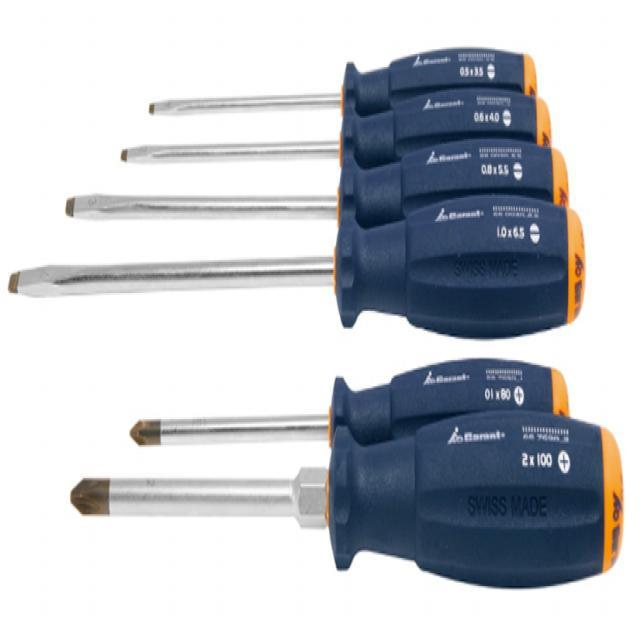screwdriver: (69, 413, 626, 595), (6, 192, 589, 344), (65, 142, 576, 244), (128, 352, 570, 460), (120, 92, 556, 178), (147, 46, 540, 132)
